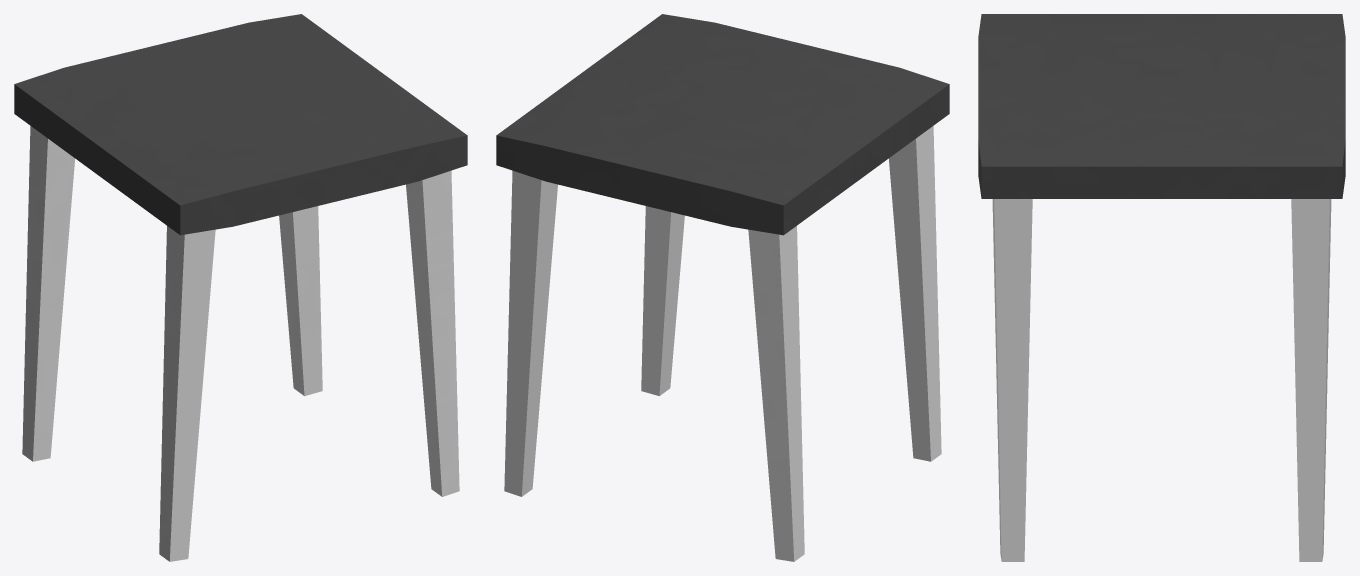
Rendered from Chair_01_05.fbx.
3 renders of one model, left to right at view 1: azimuth 30°, elevation 25°; view 2: azimuth 150°, elevation 25°; view 3: azimuth 270°, elevation 25°, orthographic. The views are drawn at different scales.
Parts seen in each view (by area): view 1: Chair_01_05; view 2: Chair_01_05; view 3: Chair_01_05.
Part boxes in pixels (x1,y1,x2,y2): Chair_01_05: [14, 14, 467, 561]; Chair_01_05: [496, 14, 949, 561]; Chair_01_05: [978, 14, 1345, 561].
Size of the model in its own units: 0.4836 by 0.5845 by 0.4882.
